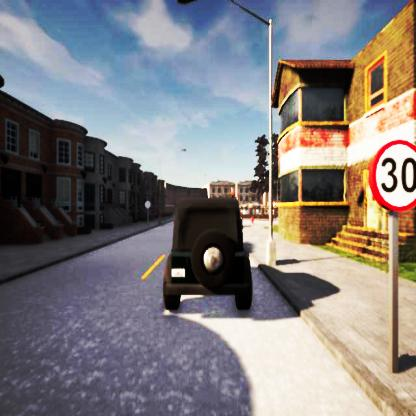vehicle: (164, 198, 252, 310)
